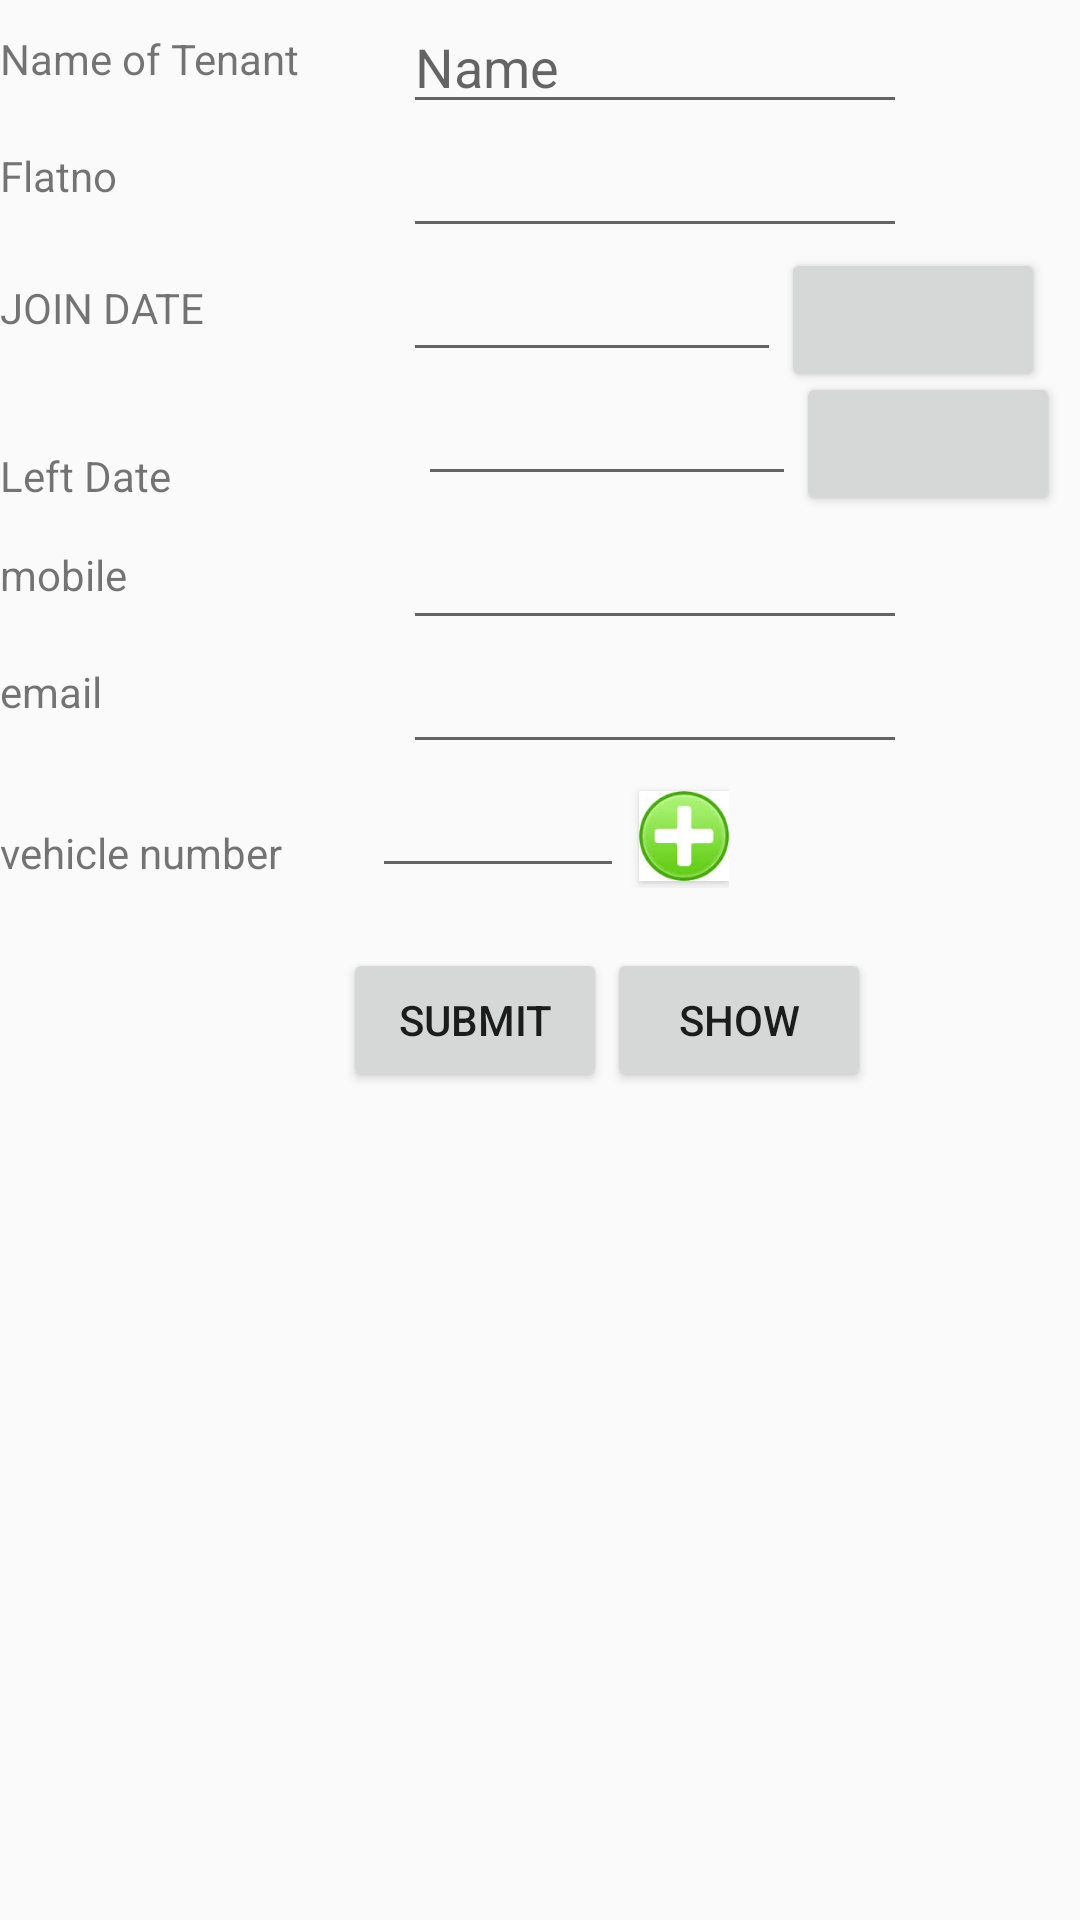

Named icons in this screenshot (1080px×1920px) and their bounding boxes, (left=x1, top=y1, right=x2, bottom=y2):
add: (left=639, top=791, right=729, bottom=881)
